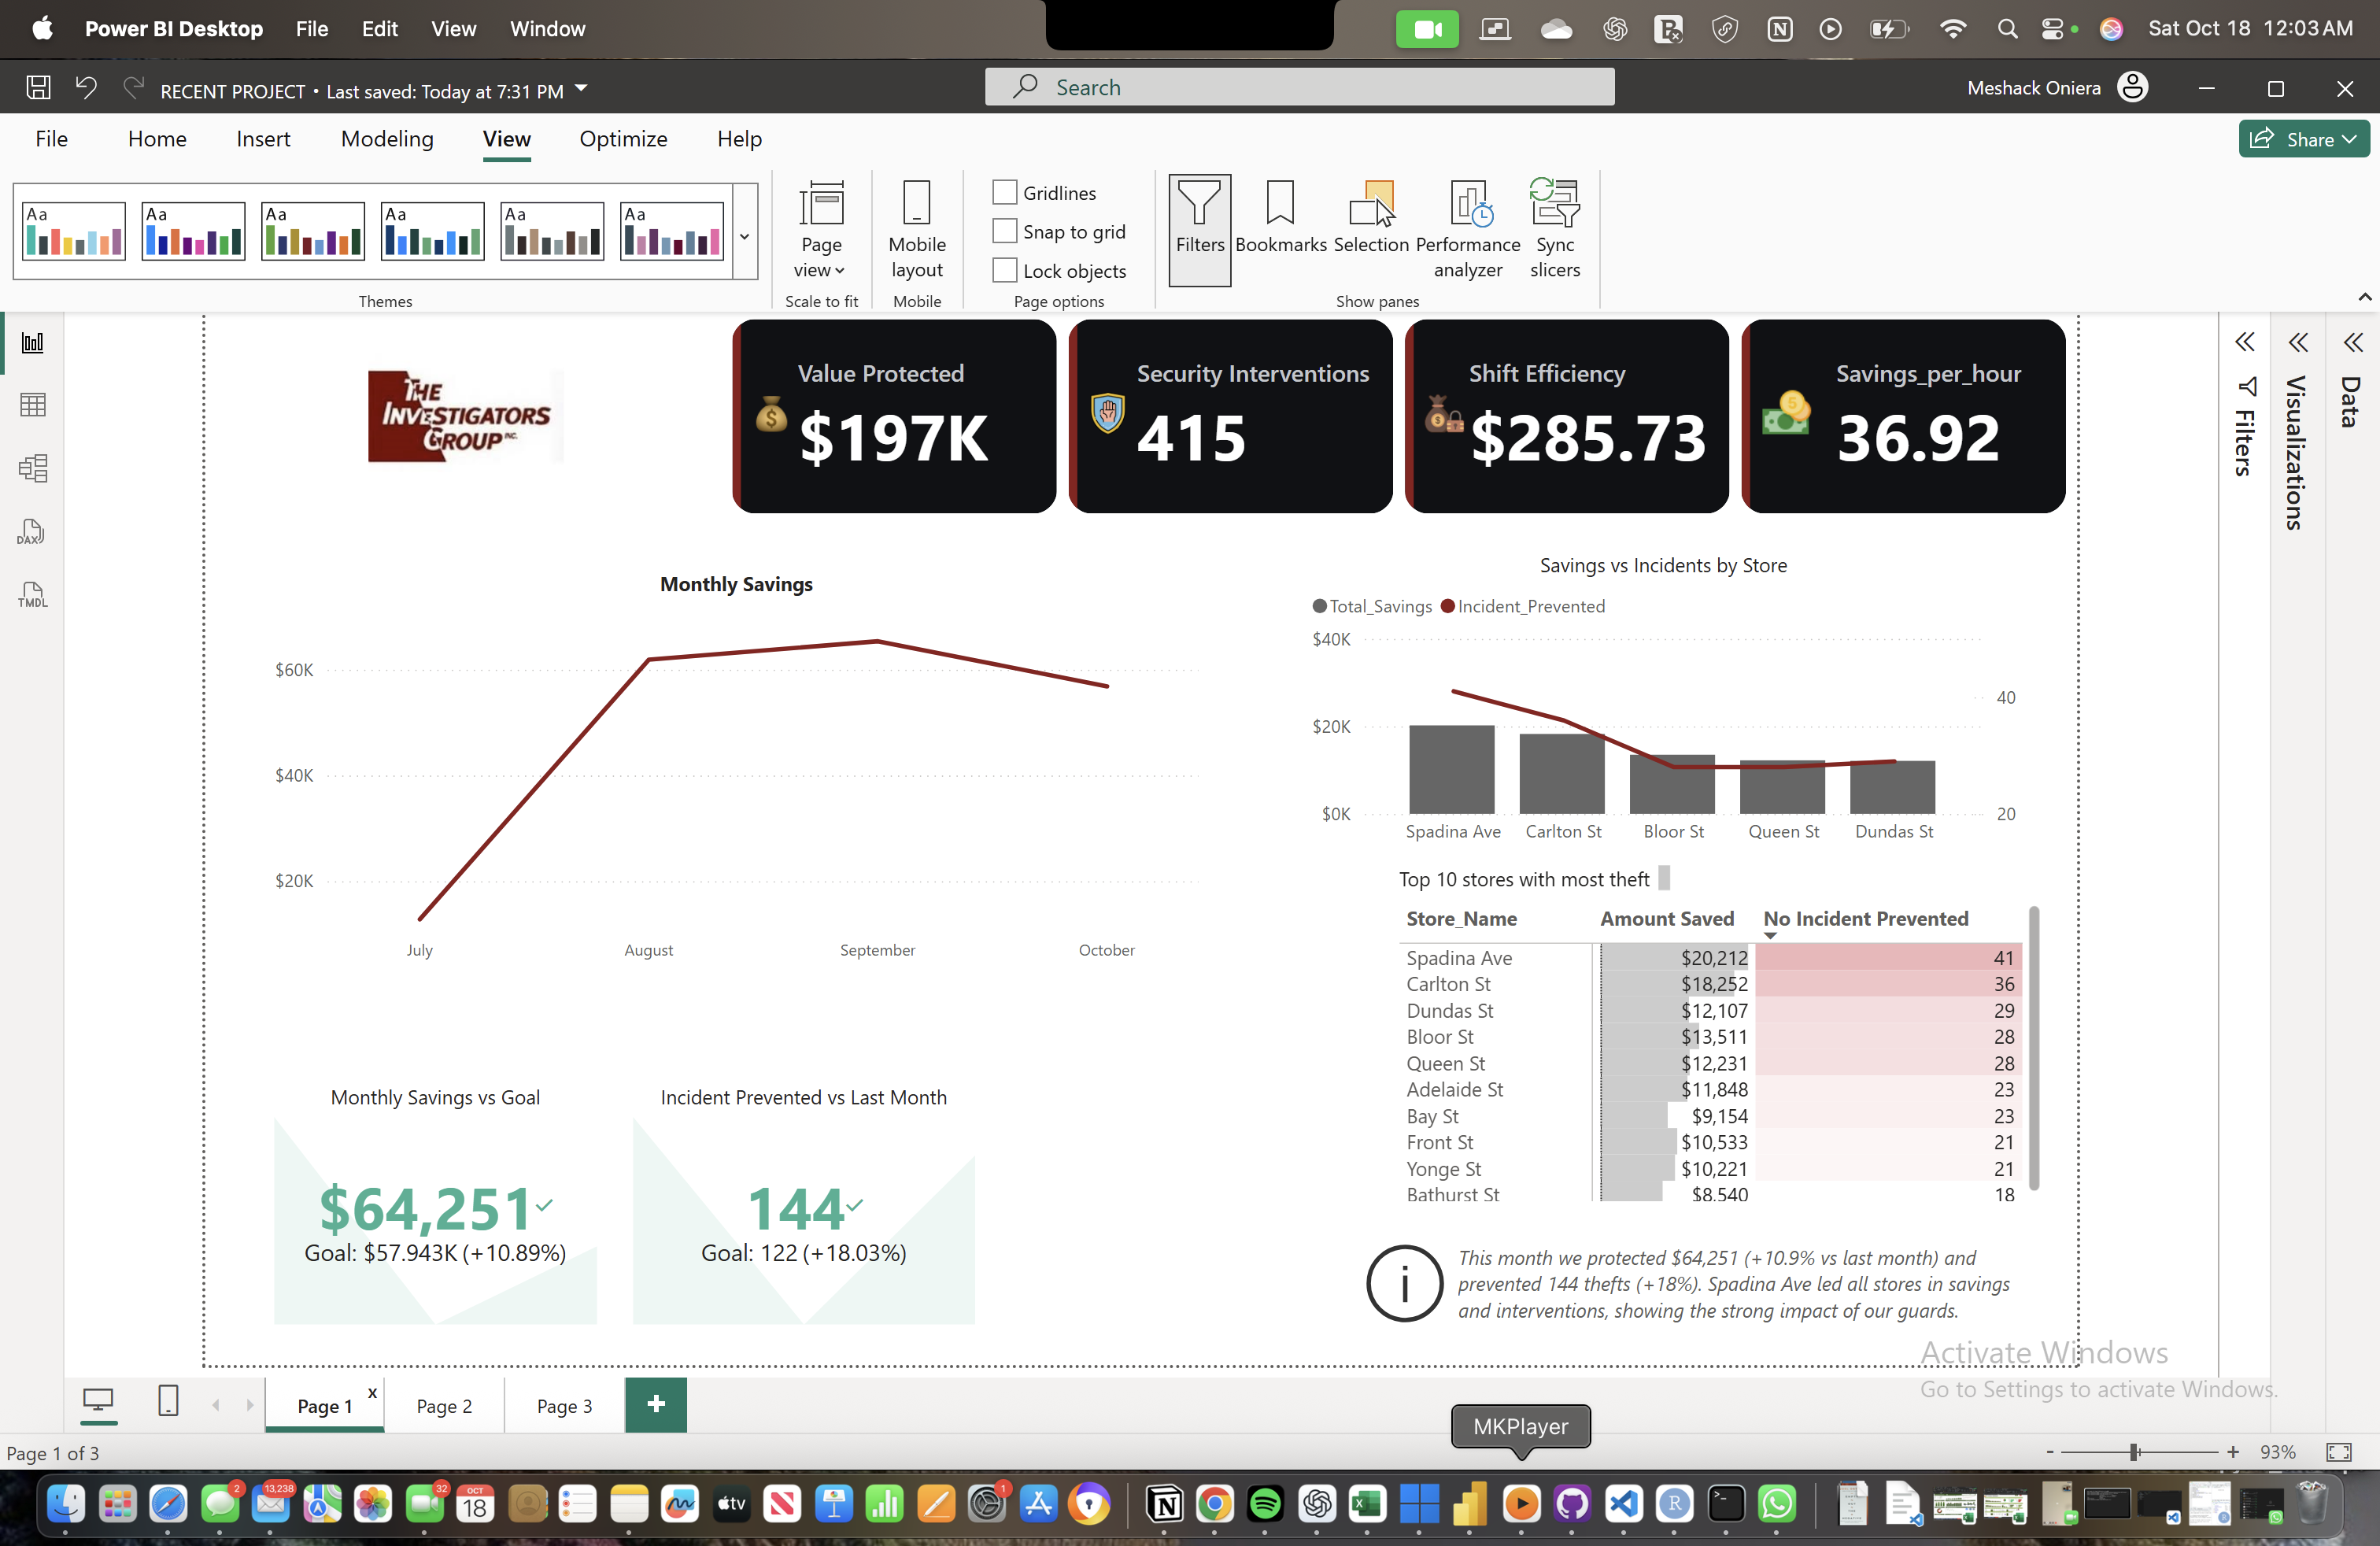

The page's visual inventory and layout, read from the dashboard file:
{"tool":"powerbi","page":{"name":"Page 1","canvas":[1280,720],"ordinal":0},"visuals":[{"type":"cardVisual","fields":{"Data":["Measure Table.Total_Savings","Measure Table.Incident_Prevented","Measure Table.Avg_Savings_Per_Shift","Measure Table.Savings_per_hour"]},"box":[354.7,0,925.7,143.7],"z":0},{"type":"image","box":[42.2,0,273,143.7],"z":1000},{"type":"lineChart","title":"Monthly Savings","fields":{"Y":["Measure Table.Total_Savings"],"Category":["Shifts.Start_of_Week.Variation.Date Hierarchy.Month"]},"box":[42.2,176.7,642.2,276.9],"z":2000},{"type":"pivotTable","fields":{"Rows":["Stores.Store_Name"],"Values":["Measure Table.Total_Savings","Measure Table.Incident_Prevented"]},"box":[811,400.9,448.4,212.3],"z":3000},{"type":"textbox","box":[811,373.2,195.2,27.7],"z":4000},{"type":"kpi","title":"Monthly Savings vs Goal","fields":{"Indicator":["Measure Table.Total_Savings"],"TrendLine":["Date.Start of Month"],"Goal":["Measure Table.Prev_Month_Savings_Store"]},"box":[42.2,527.5,230.8,170.1],"z":5000},{"type":"kpi","title":"Incident Prevented vs Last Month","fields":{"Indicator":["Measure Table.Incident_Prevented"],"TrendLine":["Date.Start of Month"],"Goal":["Measure Table.Prev_month_incident"]},"box":[287.5,527.5,244,170.1],"z":6000},{"type":"actionButton","box":[787.3,630.3,472.1,67.3],"z":7000},{"type":"lineClusteredColumnComboChart","title":"Savings vs Incidents by Store","fields":{"Category":["Stores.Store_Name"],"Y":["Measure Table.Total_Savings"],"Y2":["Measure Table.Incident_Prevented"]},"box":[751.6,163.5,491.9,209.7],"z":8000}]}

Visuals, with their boxes on the page's 1280x720 design canvas (x1, y1, x2, y2). These are canvas units, not pixel positions in the 2380x1546 screenshot, which may show the page scaled, cropped or inside an application window:
cardVisual - Measure Table.Total_Savings x Measure Table.Incident_Prevented: 355:0:1280:144
image: 42:0:315:144
"Monthly Savings" lineChart: 42:177:684:454
pivotTable - Stores.Store_Name x Measure Table.Total_Savings: 811:401:1259:613
textbox: 811:373:1006:401
"Monthly Savings vs Goal" kpi: 42:528:273:698
"Incident Prevented vs Last Month" kpi: 288:528:532:698
actionButton: 787:630:1259:698
"Savings vs Incidents by Store" lineClusteredColumnComboChart: 752:164:1244:373
